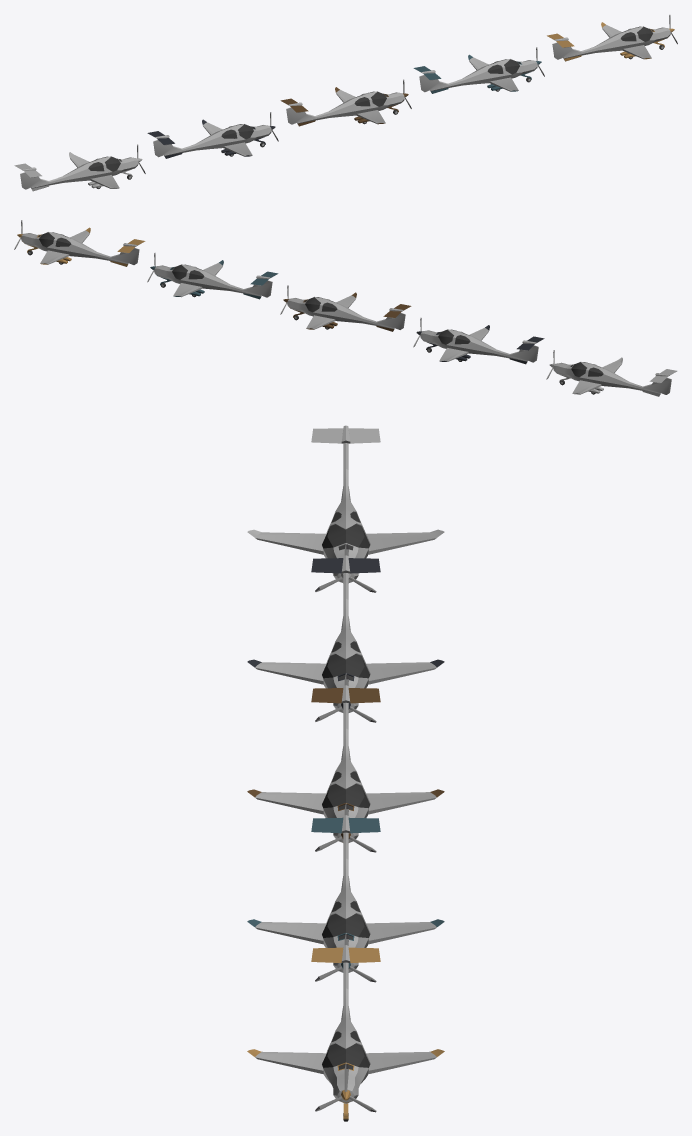
Rendered from Diamoud DA40 .fbx.
3 renders of one model, top to bottom at view 1: azimuth 30°, elevation 25°; view 2: azimuth 150°, elevation 25°; view 3: azimuth 270°, elevation 25°, orthographic. The views are drawn at different scales.
Parts seen in each view (by area): view 1: Diamond D22A brown, Diamond D22A black, Diamond D22A Yellow, Diamond D22A blue, Diamond D22A; view 2: Diamond D22A, Diamond D22A blue, Diamond D22A black, Diamond D22A brown, Diamond D22A Yellow; view 3: Diamond D22A Yellow, Diamond D22A, Diamond D22A black, Diamond D22A brown, Diamond D22A blue.
Boxes of the visible parts, bbox=[...] form: Diamond D22A brown: bbox=[280, 87, 404, 126]; Diamond D22A black: bbox=[147, 119, 271, 158]; Diamond D22A Yellow: bbox=[547, 22, 670, 61]; Diamond D22A blue: bbox=[413, 54, 537, 93]; Diamond D22A: bbox=[14, 152, 138, 191]; Diamond D22A: bbox=[553, 357, 677, 396]; Diamond D22A blue: bbox=[154, 260, 278, 299]; Diamond D22A black: bbox=[420, 325, 544, 364]; Diamond D22A brown: bbox=[287, 292, 411, 331]; Diamond D22A Yellow: bbox=[21, 227, 145, 266]; Diamond D22A Yellow: bbox=[247, 945, 444, 1119]; Diamond D22A: bbox=[247, 425, 444, 583]; Diamond D22A black: bbox=[247, 555, 444, 712]; Diamond D22A brown: bbox=[247, 685, 444, 842]; Diamond D22A blue: bbox=[247, 815, 444, 972].
Size of the model in its own units: 39.34 by 2.06 by 5.15.
